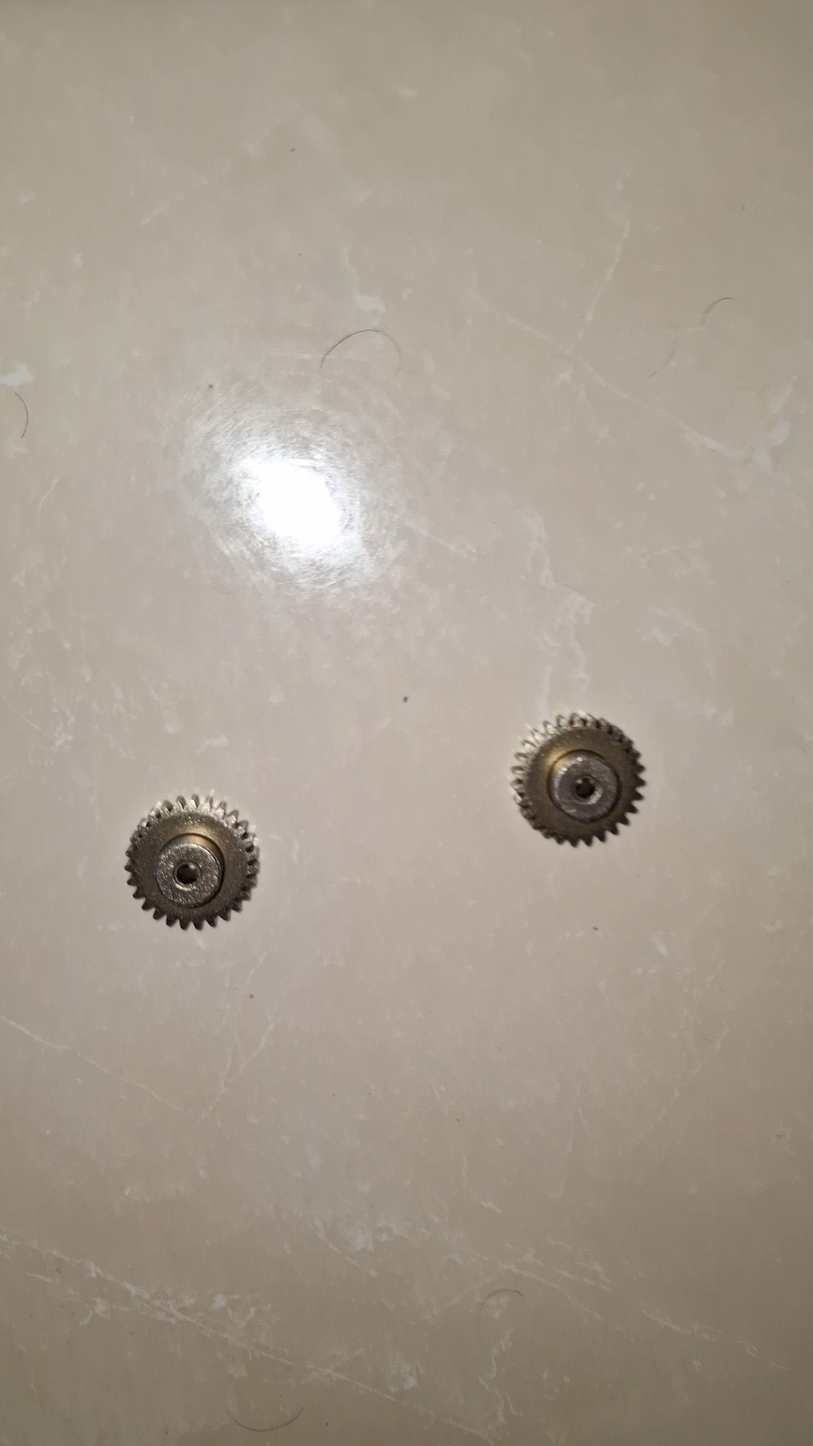spur gear: (126, 796, 258, 929), (512, 713, 643, 846)
